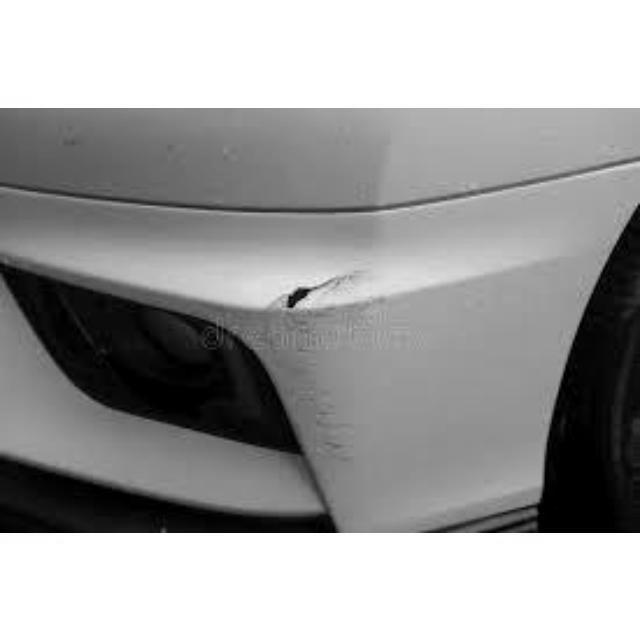front-bumper-dent: (6, 200, 573, 530)
